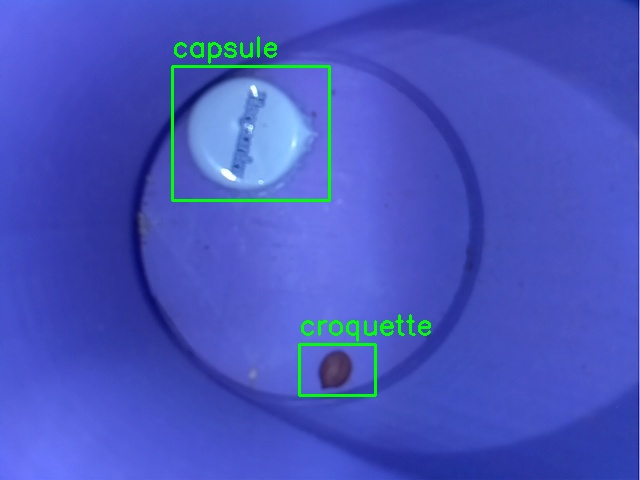capsule: (172, 66, 329, 200)
croquette: (299, 344, 375, 395)
